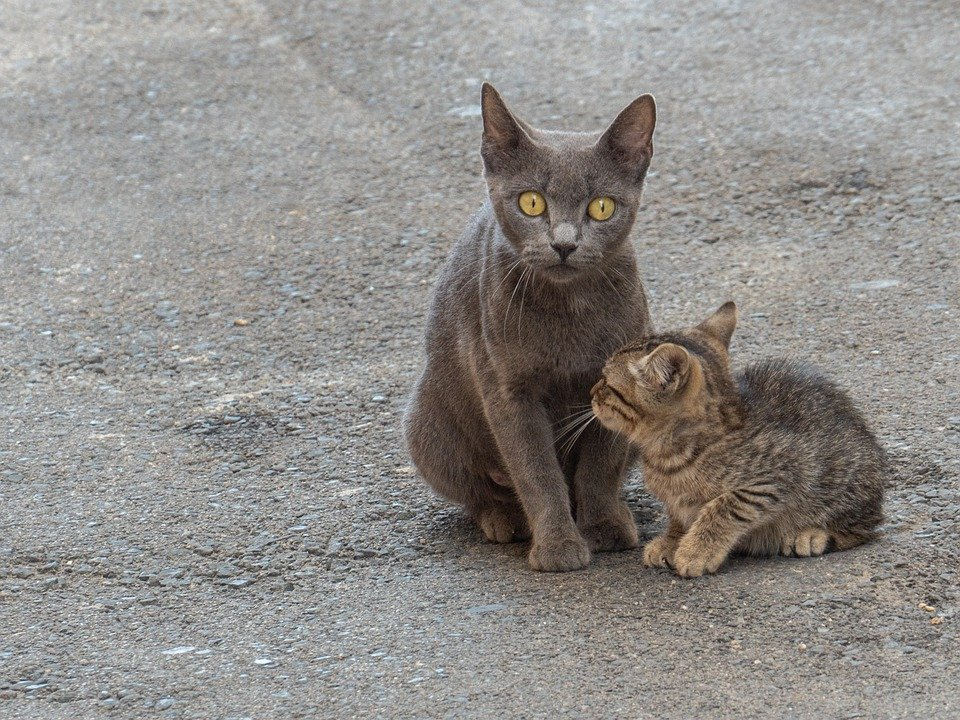cat: (417, 100, 697, 579), (558, 309, 903, 574)
